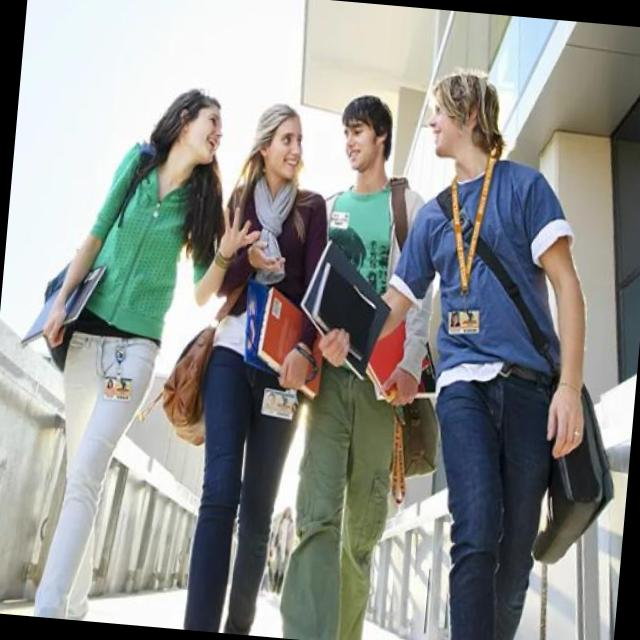id_card: (441, 145, 496, 331)
